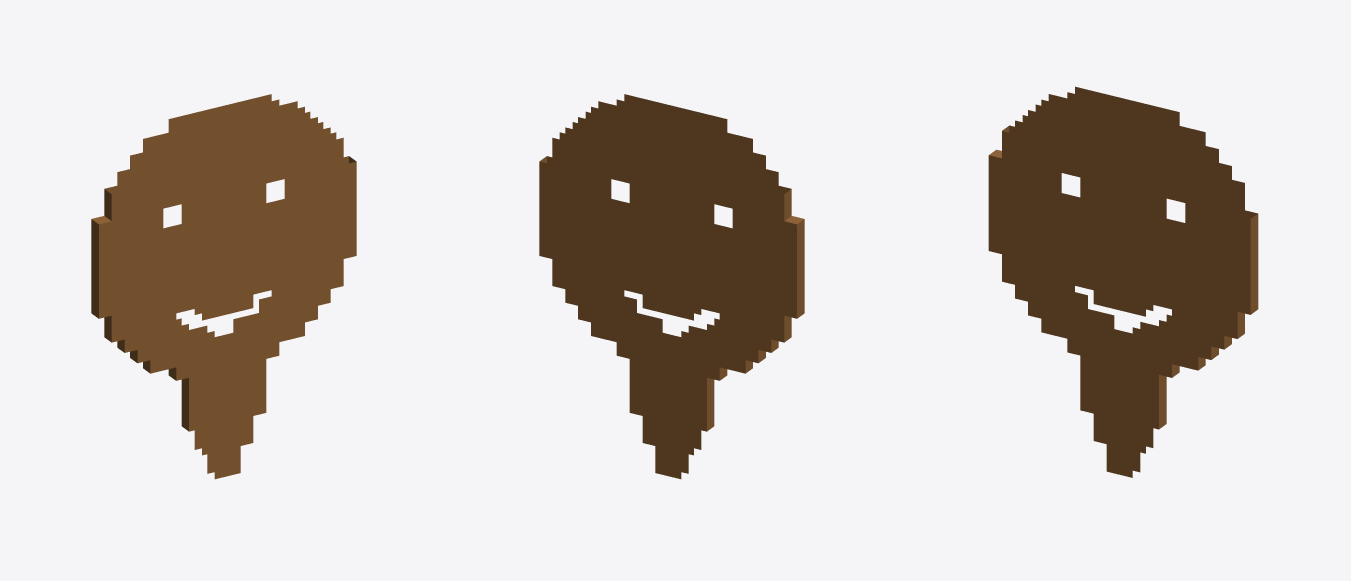
Rendered from Male2.obj.
3 views of the same model, side by side, from view 1: azimuth 30°, elevation 25°; view 2: azimuth 150°, elevation 25°; view 3: azimuth 330°, elevation 25° (orthographic).
Bounding box in the file's own units: 3.2 × 3.6 × 0.1.
